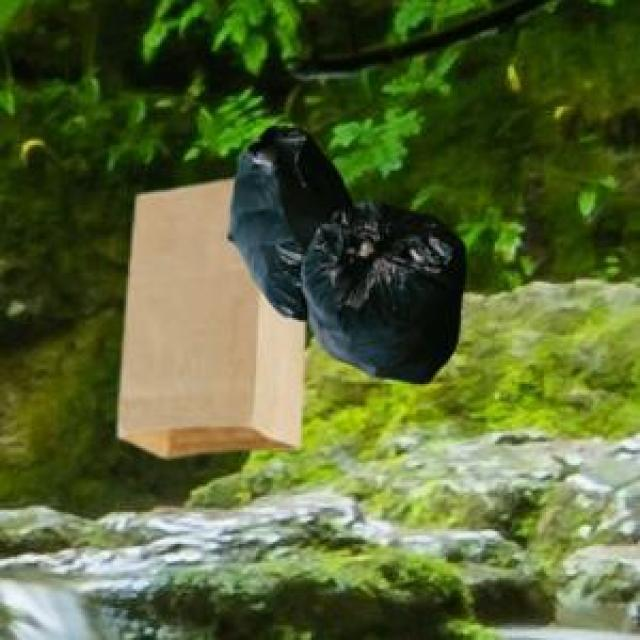miscellaneous trash: (224, 122, 461, 380)
paper: (115, 175, 301, 452)
